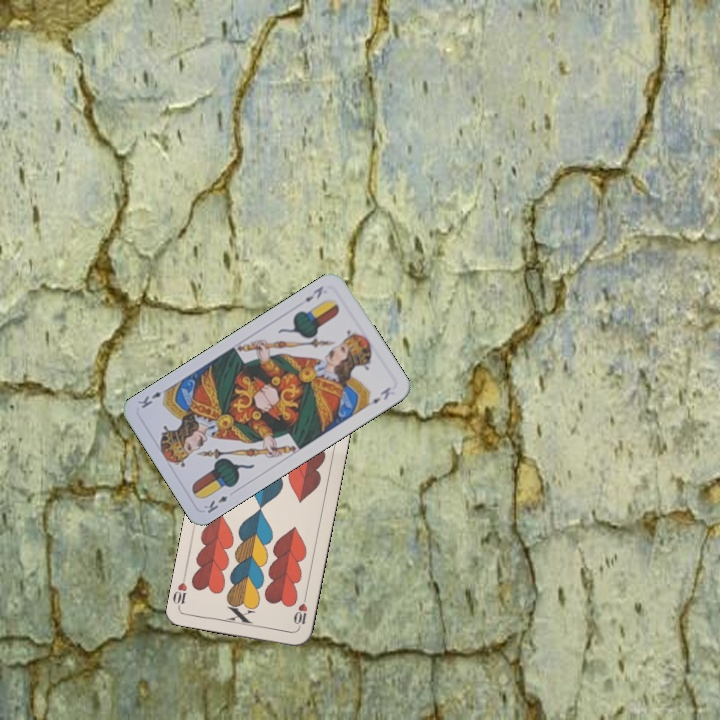EK: (199, 491, 230, 516), (301, 282, 326, 304)
H10: (290, 592, 310, 632)
